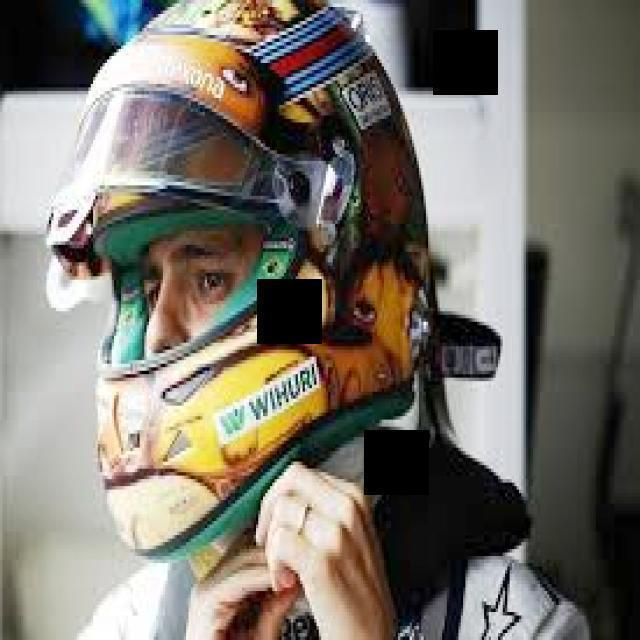helmet: (40, 0, 428, 566)
